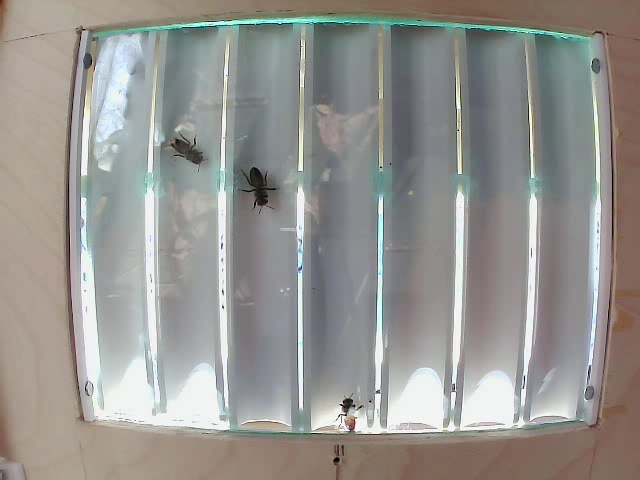bee: (165, 126, 207, 175), (251, 162, 285, 220)
